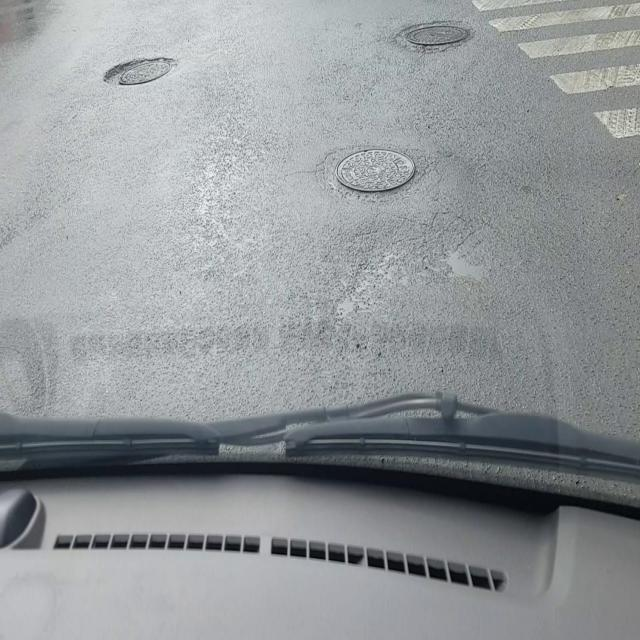Pothole: (101, 51, 179, 88)
